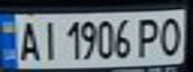0: (97, 17, 118, 61)
1: (60, 17, 81, 61)
6: (112, 16, 136, 60)
9: (78, 17, 100, 61)
A: (15, 17, 42, 62)
I: (36, 17, 60, 61)
O: (154, 14, 187, 57)
P: (133, 15, 163, 57)
